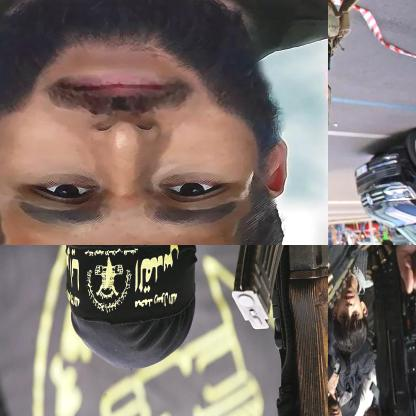rifle: (232, 245, 327, 415), (363, 245, 415, 415)
